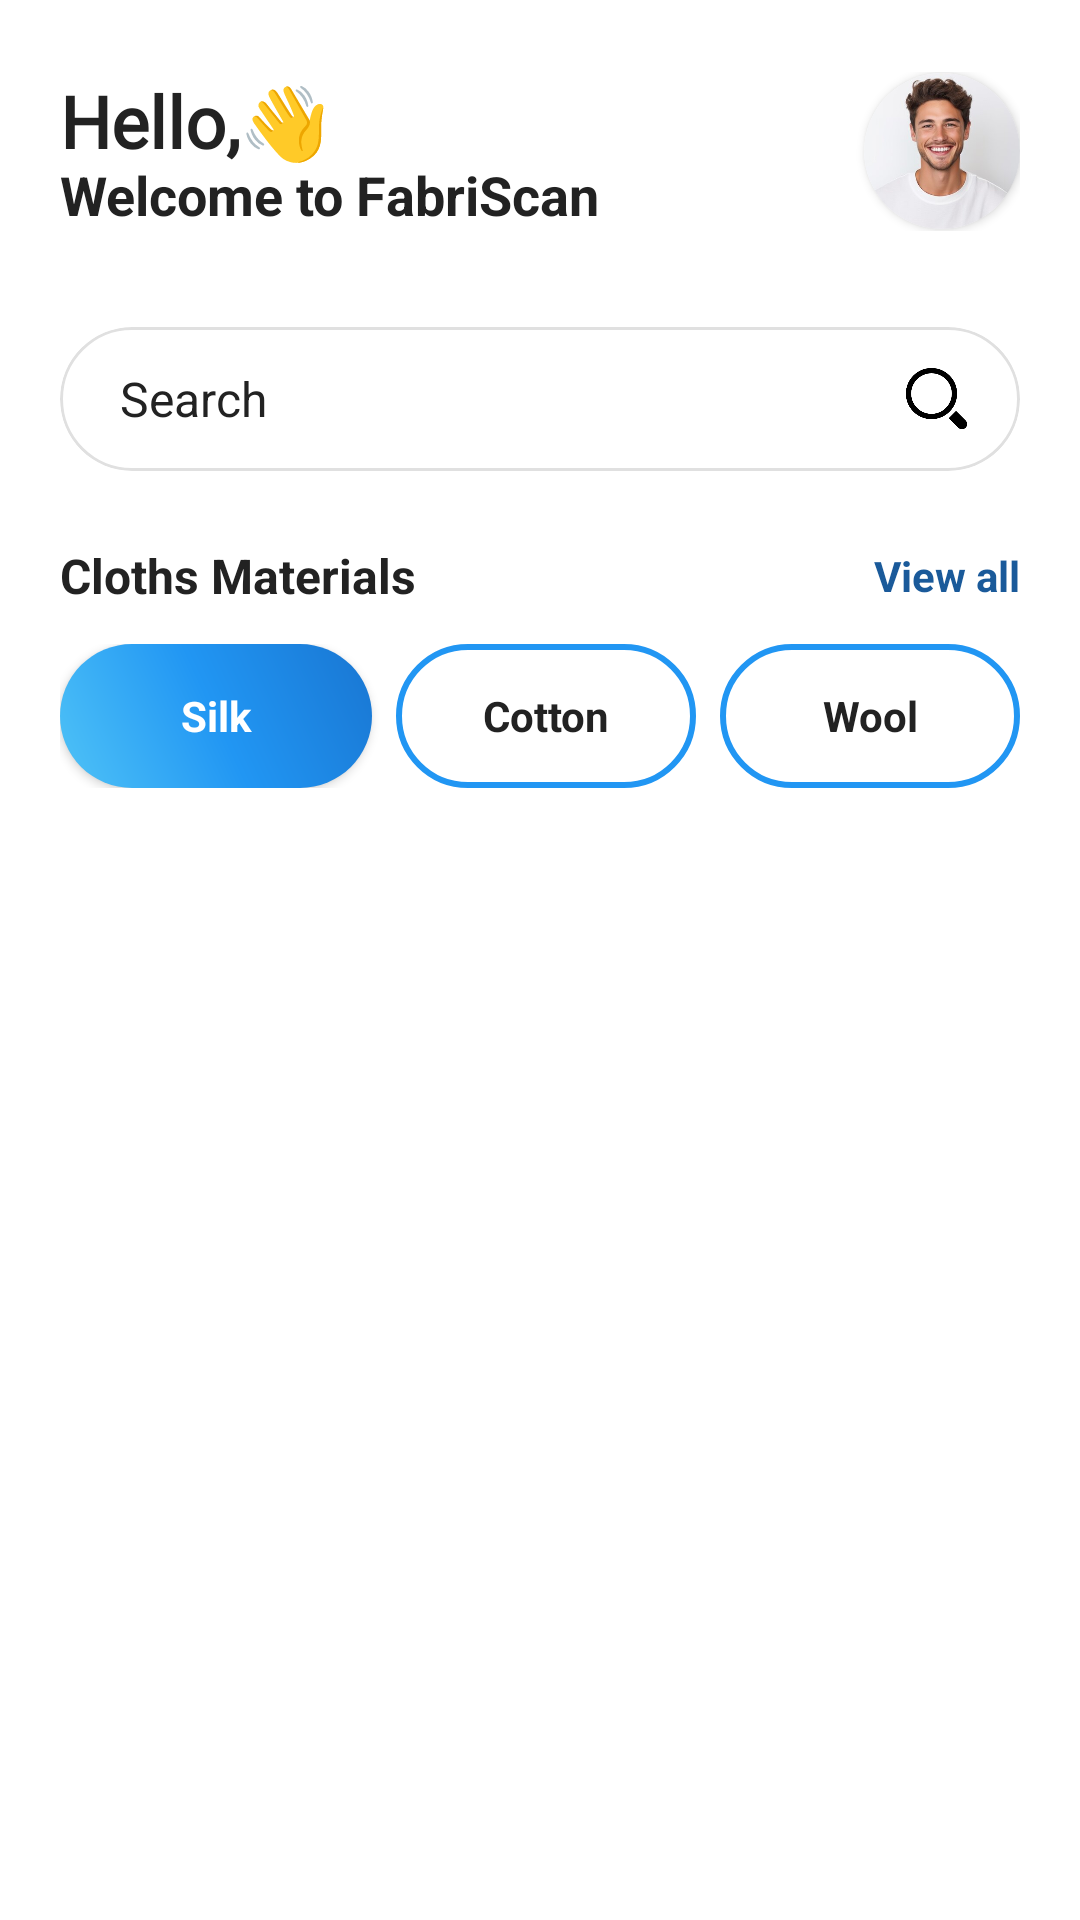

Icons on this 1080px×1920px Android screen, each with the point to tap as (x=x, y=y):
Profile image: (x=948, y=153)
